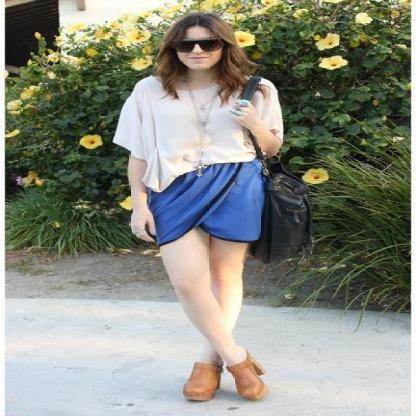bag: (246, 158, 318, 264)
shirt: (112, 68, 283, 191)
shoe: (182, 352, 267, 402)
skirt: (146, 158, 261, 245)
sunglass: (198, 34, 232, 58)
